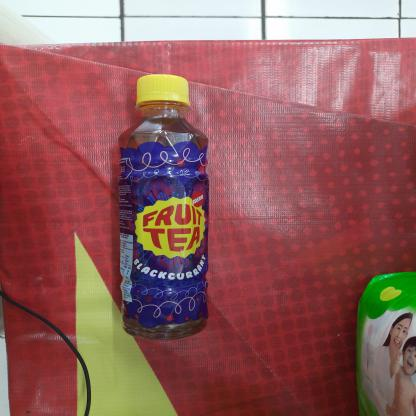bottle: (112, 72, 214, 341)
